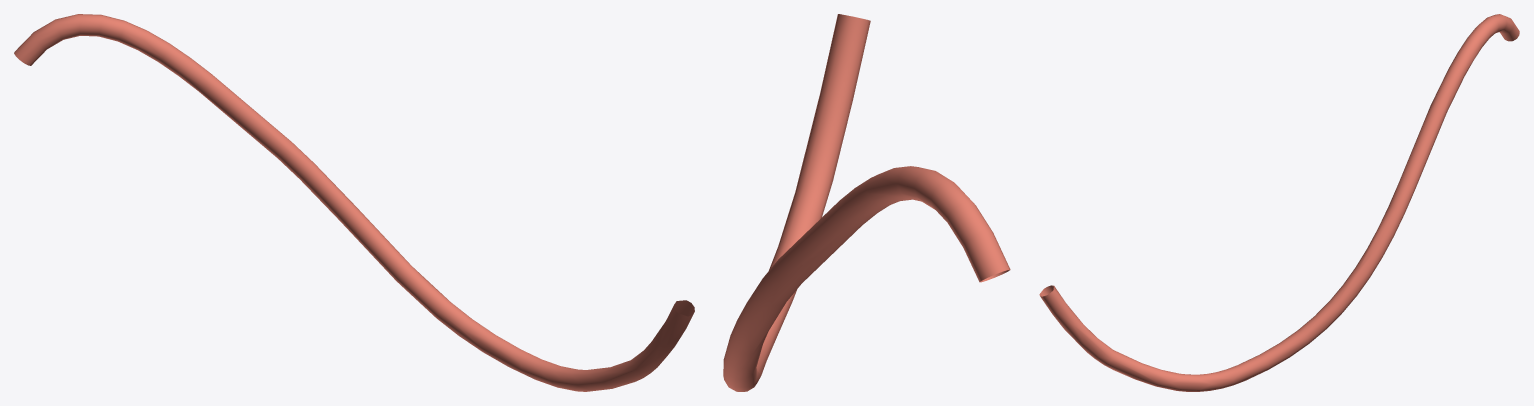
File: visceras-submandibular-duct-r.glb
3 views of the same model, side by side, from view 1: azimuth 30°, elevation 25°; view 2: azimuth 150°, elevation 25°; view 3: azimuth 270°, elevation 25° (orthographic). The views are drawn at different scales.
Parts seen in each view (by area): view 1: Submandibular duct.r; view 2: Submandibular duct.r; view 3: Submandibular duct.r.
Boxes of the visible parts, x1,y1,x2,y2 form: Submandibular duct.r: [14, 14, 694, 391]; Submandibular duct.r: [723, 14, 1010, 391]; Submandibular duct.r: [1039, 14, 1519, 391].
Size of the model in its own units: 0.0207 by 0.0158 by 0.0269.
